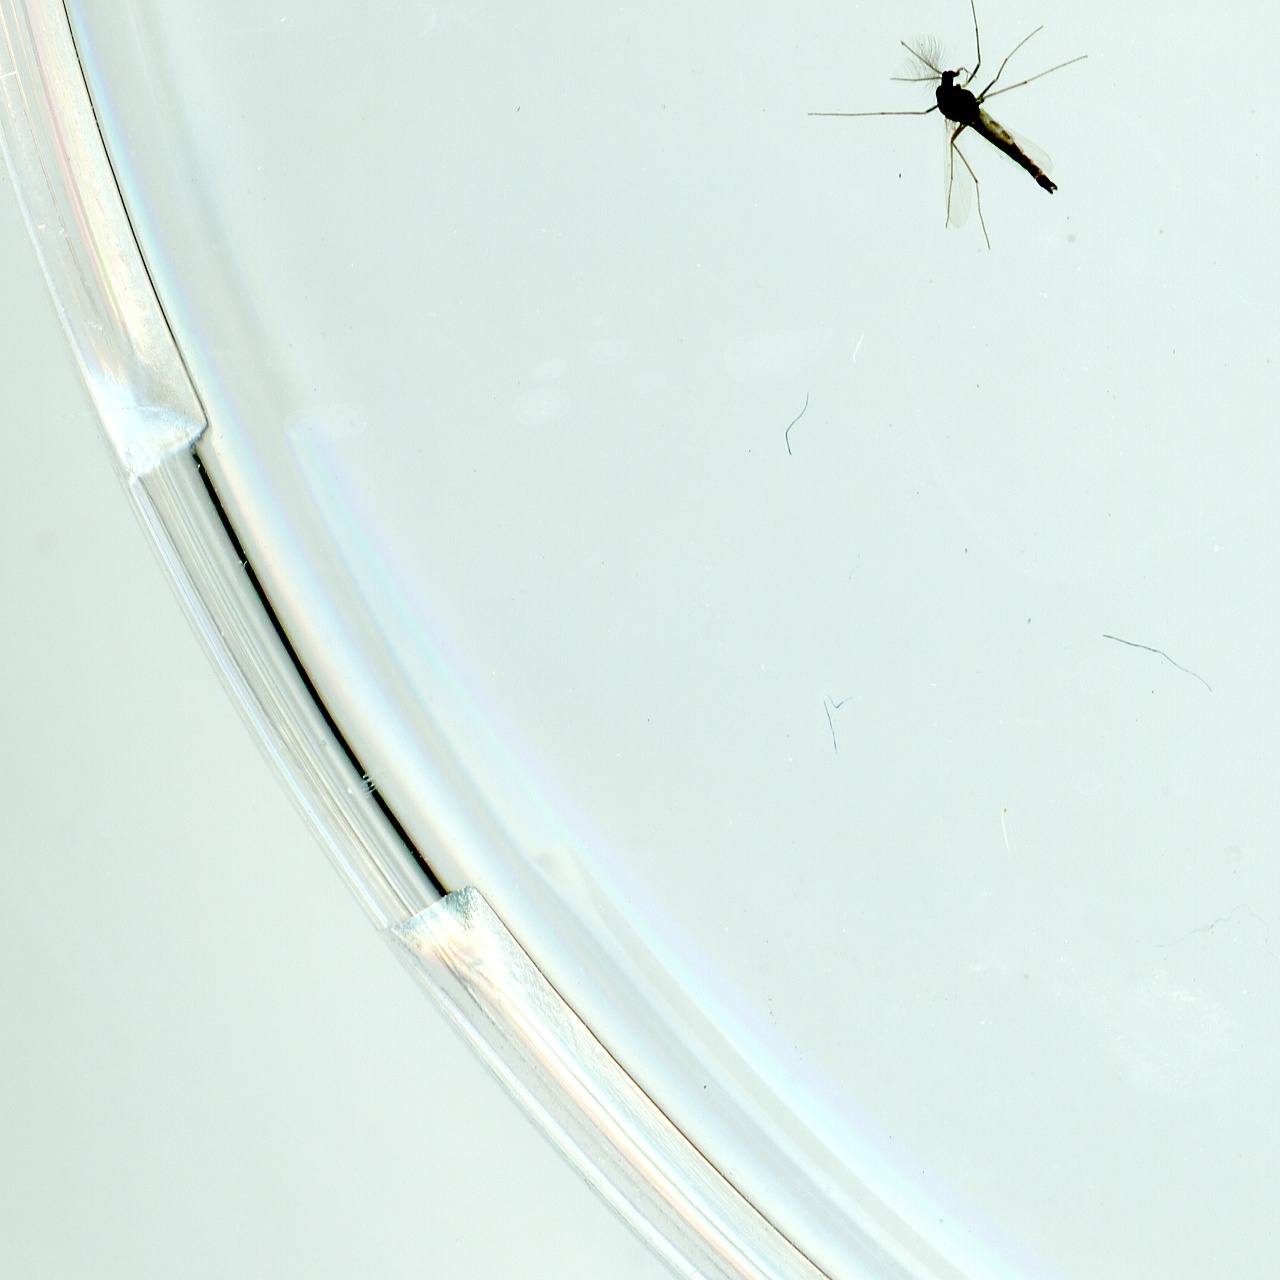arthropod: (795, 0, 1149, 278)
